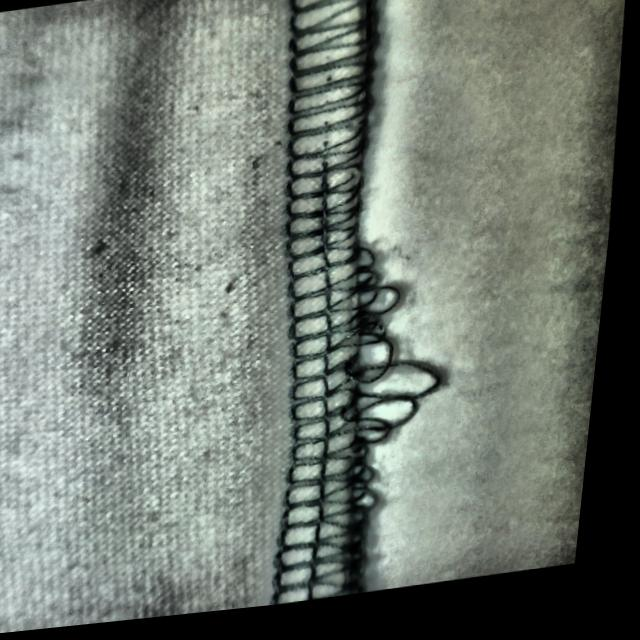Stitch: (261, 239, 472, 614)
